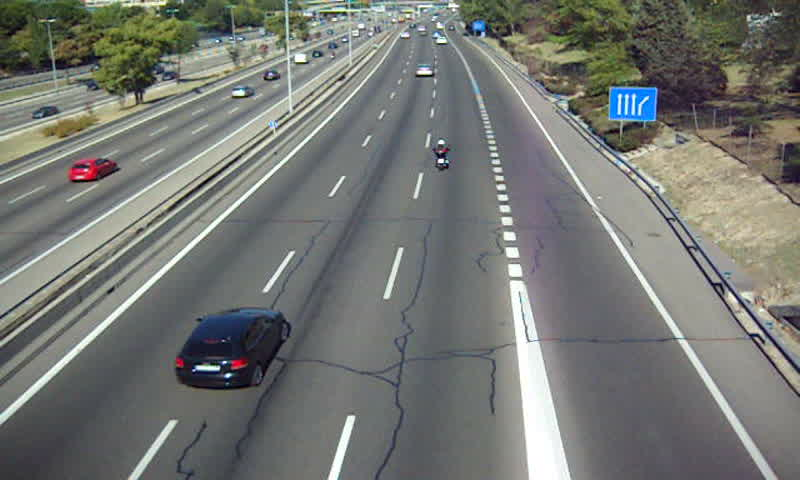car: (175, 309, 286, 387), (414, 64, 434, 79)
motorcycle: (432, 137, 452, 171)
